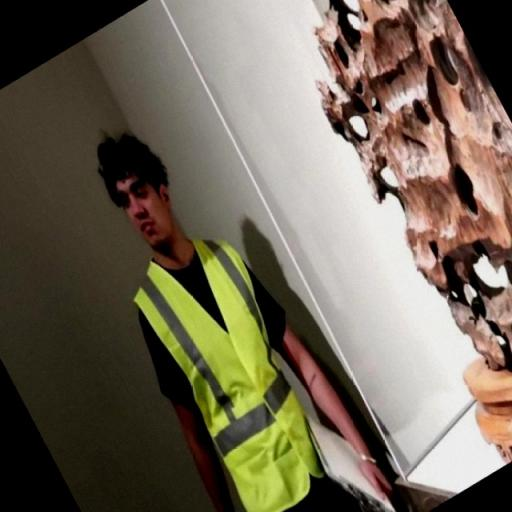Person: (62, 125, 384, 504)
vest: (116, 241, 338, 512)
